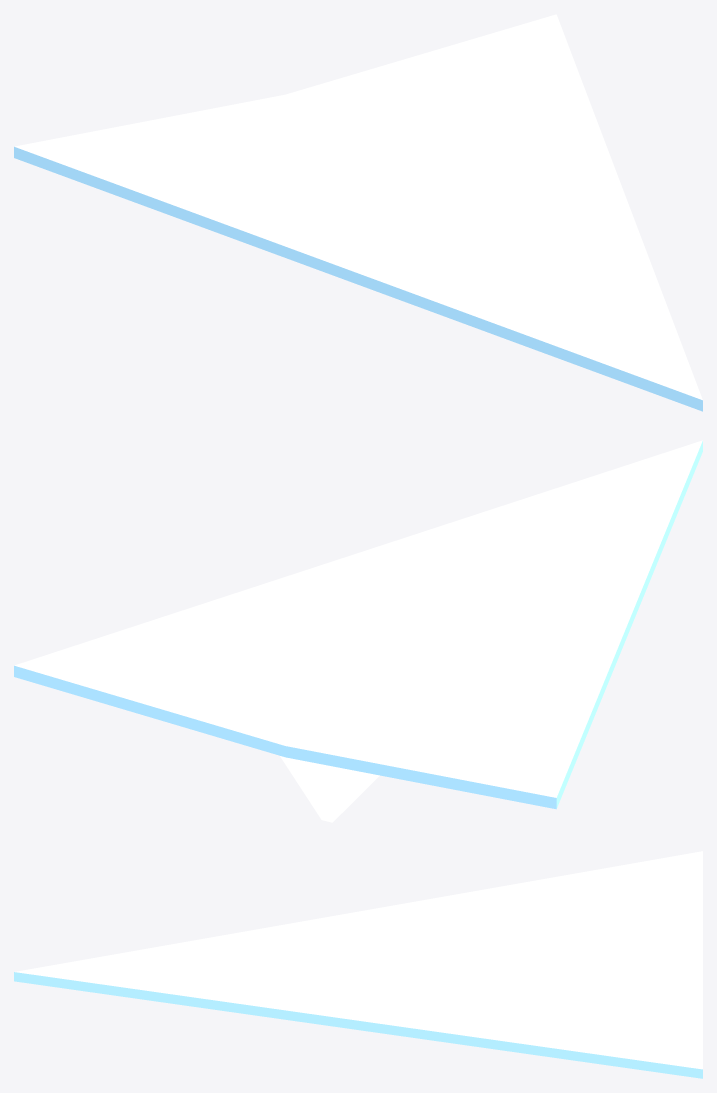
File: toy-plane.glb
3 renders of one model, top to bottom at view 1: azimuth 30°, elevation 25°; view 2: azimuth 150°, elevation 25°; view 3: azimuth 270°, elevation 25°, orthographic. The views are drawn at different scales.
Visible parts, largest first — view 1: toy-plane; view 2: toy-plane; view 3: toy-plane.
Part boxes in pixels (x1,y1,x2,y2): toy-plane: [14, 14, 702, 411]; toy-plane: [14, 440, 702, 822]; toy-plane: [14, 851, 702, 1078].
Size of the model in its own units: 0.6 by 0.127 by 0.8.
